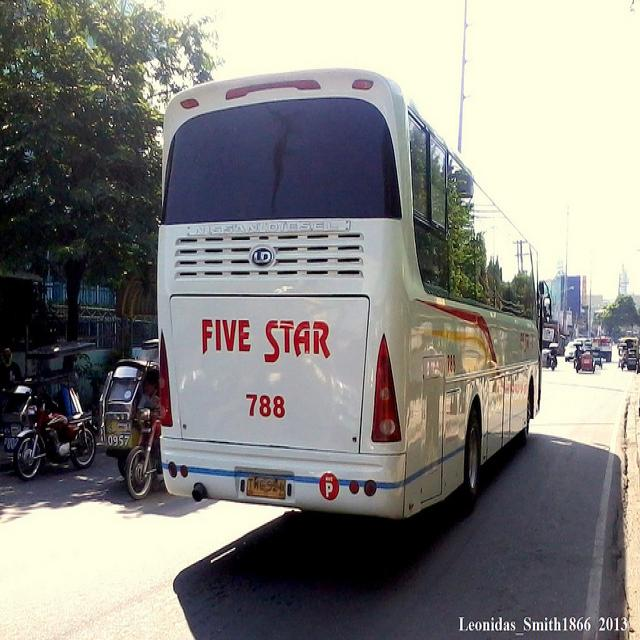motor: (96, 336, 161, 515), (12, 378, 97, 485), (548, 353, 556, 373), (574, 352, 581, 374)
